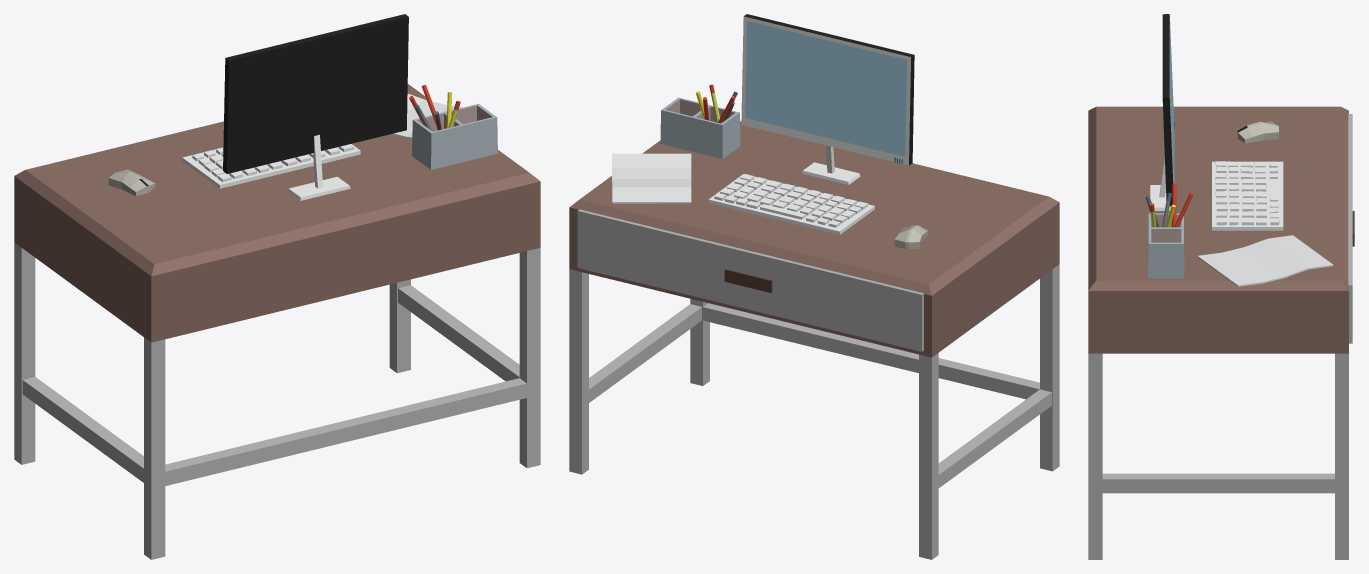
File: Ban pc.fbx
3 renders of one model, left to right at view 1: azimuth 30°, elevation 25°; view 2: azimuth 150°, elevation 25°; view 3: azimuth 270°, elevation 25°, orthographic. The views are drawn at different scales.
Parts seen in each view (by area): view 1: polySurface1202, polySurface1232, polySurface1209, polySurface1188, polySurface1169, polySurface1243, polySurface1168, polySurface1156, polySurface1174, polySurface1214, polySurface1237, polySurface1190 (+1 smaller); view 2: polySurface1202, polySurface1232, polySurface1209, polySurface1214, polySurface1221, polySurface1243, polySurface1237, polySurface1188, polySurface1168, polySurface1156, polySurface1174, polySurface1169 (+1 smaller); view 3: polySurface1202, polySurface1214, polySurface1174, polySurface1221, polySurface1169, polySurface1237, polySurface1232, polySurface1168, polySurface1190.
Boxes of the visible parts, left/top/right/bottom form: polySurface1202: left=14, top=84, right=540, bottom=342; polySurface1232: left=223, top=14, right=408, bottom=200; polySurface1209: left=165, top=378, right=526, bottom=485; polySurface1188: left=144, top=337, right=165, bottom=559; polySurface1169: left=519, top=248, right=540, bottom=468; polySurface1243: left=14, top=242, right=35, bottom=464; polySurface1168: left=412, top=103, right=497, bottom=169; polySurface1156: left=22, top=377, right=143, bottom=482; polySurface1174: left=398, top=285, right=519, bottom=381; polySurface1214: left=182, top=144, right=360, bottom=188; polySurface1237: left=389, top=279, right=410, bottom=373; polySurface1190: left=108, top=169, right=155, bottom=195; polySurface1202: left=569, top=121, right=1059, bottom=357; polySurface1232: left=741, top=14, right=914, bottom=184; polySurface1209: left=703, top=303, right=1039, bottom=399; polySurface1214: left=708, top=174, right=874, bottom=234; polySurface1221: left=612, top=153, right=691, bottom=203; polySurface1243: left=919, top=353, right=938, bottom=559; polySurface1237: left=569, top=269, right=588, bottom=474; polySurface1188: left=1040, top=264, right=1059, bottom=471; polySurface1168: left=660, top=97, right=740, bottom=158; polySurface1156: left=938, top=389, right=1051, bottom=487; polySurface1174: left=589, top=304, right=701, bottom=402; polySurface1169: left=690, top=298, right=709, bottom=385; polySurface1202: left=1088, top=106, right=1354, bottom=353; polySurface1214: left=1212, top=161, right=1283, bottom=230; polySurface1174: left=1102, top=473, right=1334, bottom=493; polySurface1221: left=1197, top=235, right=1333, bottom=286; polySurface1169: left=1088, top=353, right=1102, bottom=559; polySurface1237: left=1335, top=353, right=1348, bottom=559; polySurface1232: left=1150, top=14, right=1174, bottom=210; polySurface1168: left=1148, top=213, right=1184, bottom=278; polySurface1190: left=1237, top=121, right=1278, bottom=143.
Size of the model in its own units: 125 by 132 by 75.61.
